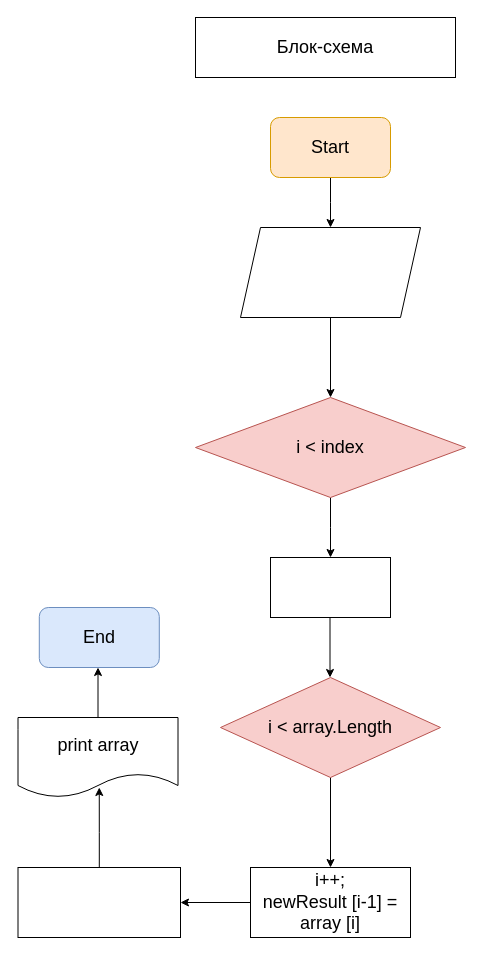
This 483x955 diagram has some shape labels left out. Each missing label, with the centre of its shape:
"array = newResult" belongs at point 98,902.
"i = index+1" belongs at point 330,587.
"size = 4 array [size] i = 0" belongs at point 330,272.
